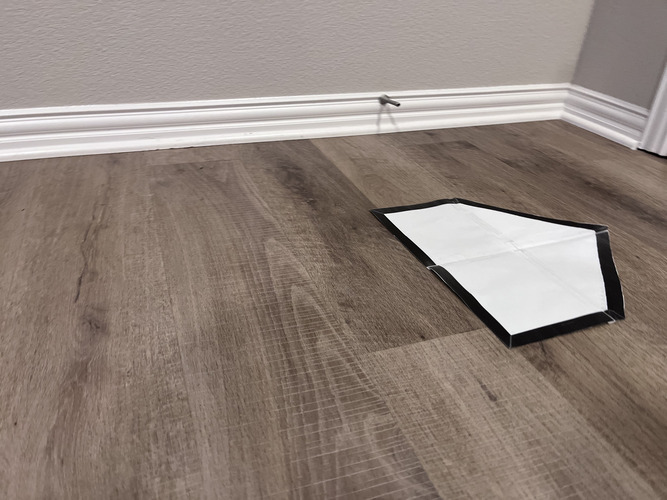homeplate: (369, 198, 626, 348)
